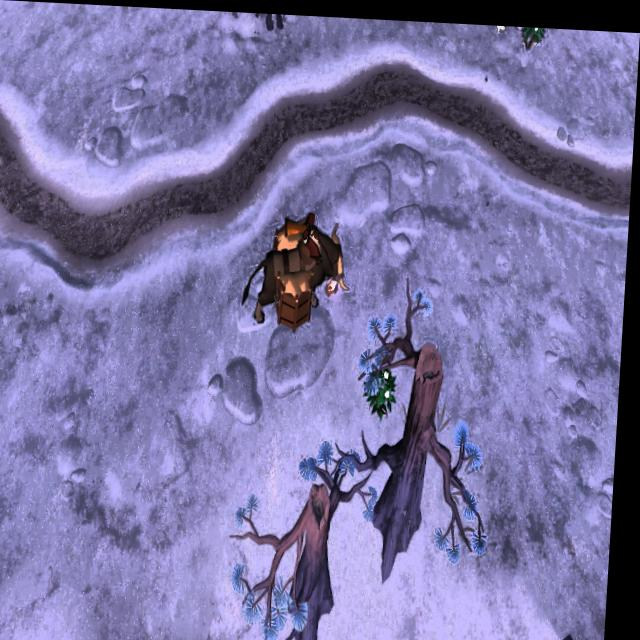fiber_t3: (369, 355, 405, 413), (518, 21, 550, 53)
